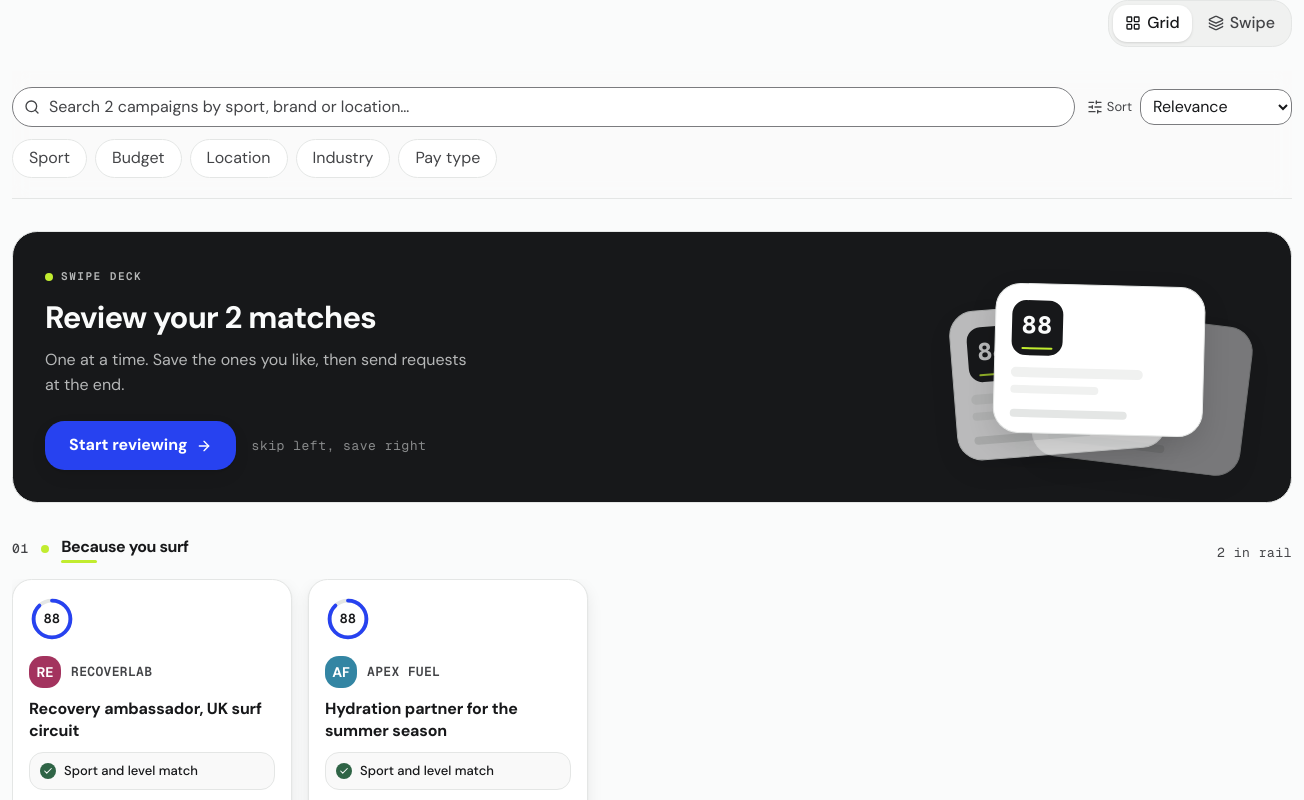
Test: DiscoverFeed › renders the footer under the grid when a filter is active
Type "Recovery" into the search field named "search campaigns" at (543, 107), box [12,87,1075,127]
(page scrolled)
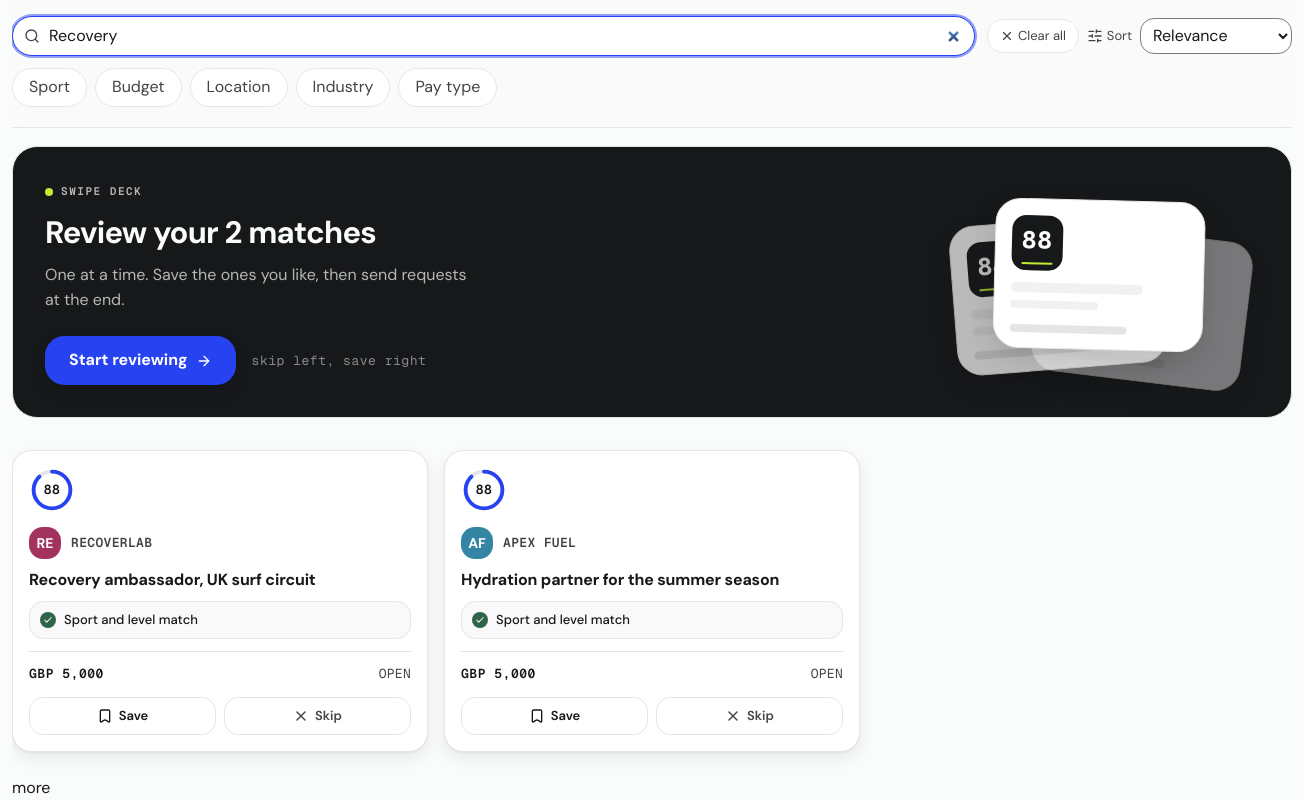
Expected: the text "more" is shown, [12,777,50,798]
Expected: the element with test id "discover-grid" is shown, [12,450,860,798]
